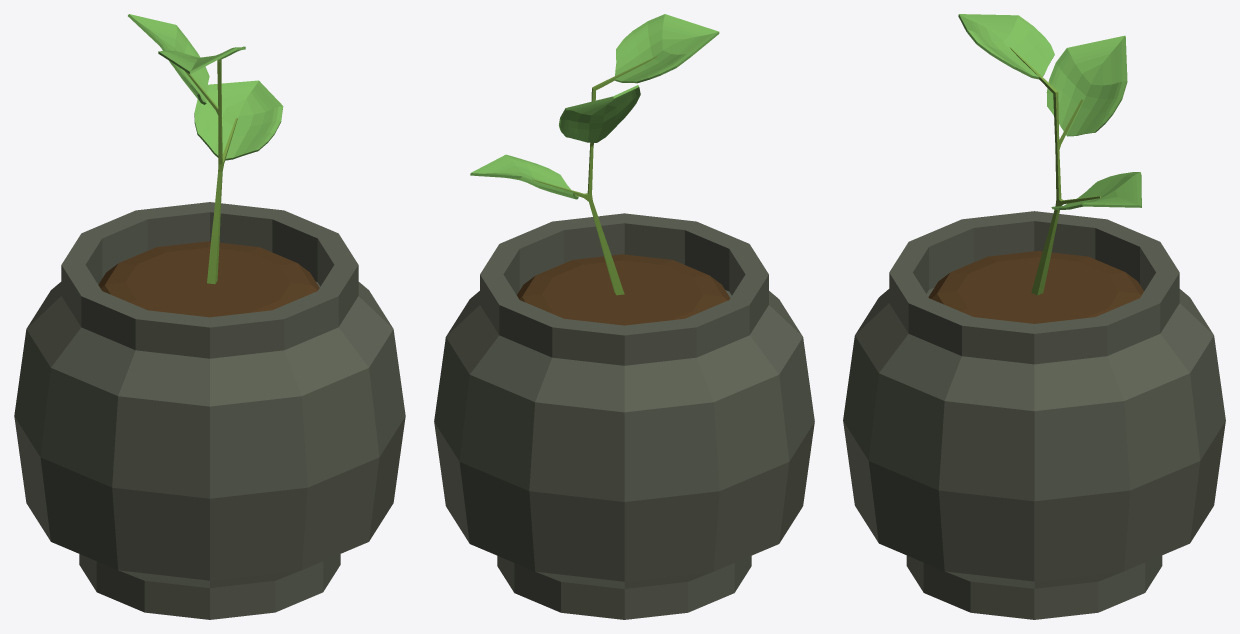
File: PLANT.fbx
3 views of the same model, side by side, from view 1: azimuth 30°, elevation 25°; view 2: azimuth 150°, elevation 25°; view 3: azimuth 270°, elevation 25° (orthographic). The views are drawn at different scales.
Parts seen in each view (by area): view 1: Cylinder.093; view 2: Cylinder.093; view 3: Cylinder.093.
Boxes of the visible parts, x1=… form: Cylinder.093: x1=14, y1=14, x2=405, y2=619; Cylinder.093: x1=434, y1=14, x2=814, y2=619; Cylinder.093: x1=843, y1=14, x2=1225, y2=619.
Bounding box in the file's own units: 300 × 460 × 300.
